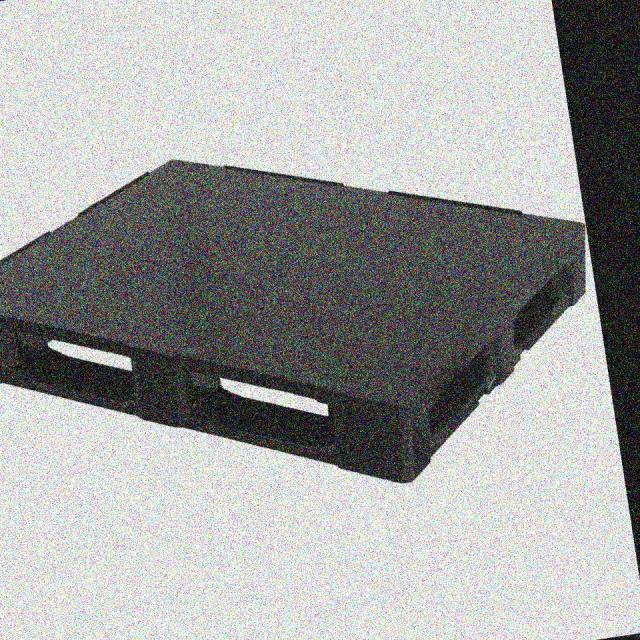non-igps: (0, 151, 593, 489)
